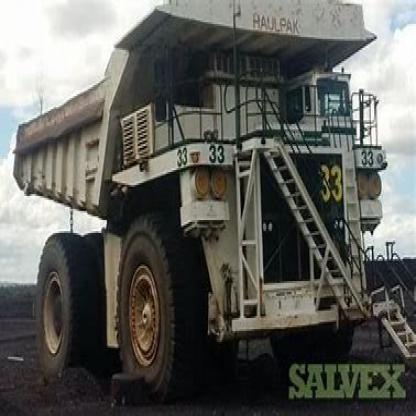dump_truck: (9, 0, 378, 403)
